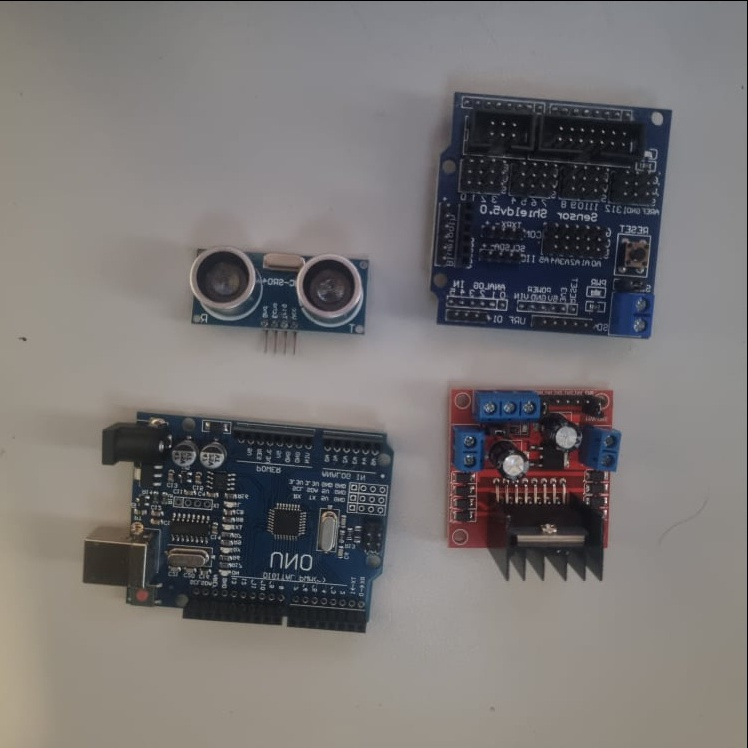5V EXPANSION: (433, 89, 674, 338)
MOTOR: (448, 386, 625, 581)
SENSOR: (188, 248, 377, 338)
UNO R3: (82, 411, 395, 632)
